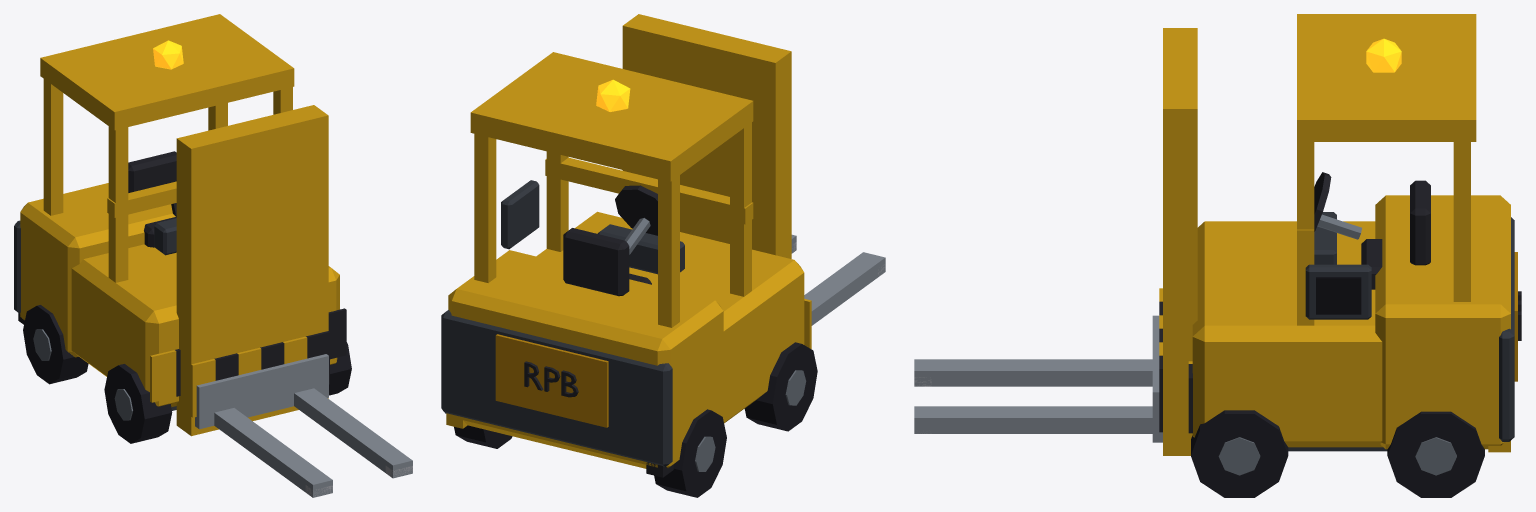
File: forklift.glb
The picture shows the model from 3 angles, left to right: view 1: azimuth 30°, elevation 25°; view 2: azimuth 150°, elevation 25°; view 3: azimuth 270°, elevation 25°; orthographic projection. The views are drawn at different scales.
Visible parts, largest first — view 1: forklift; view 2: forklift; view 3: forklift.
Part boxes in pixels (x1=…): forklift: x1=14, y1=14, x2=412, y2=497; forklift: x1=441, y1=14, x2=885, y2=497; forklift: x1=914, y1=14, x2=1521, y2=497.
Bounding box in the file's own units: 1.72 × 2.53 × 3.49.
